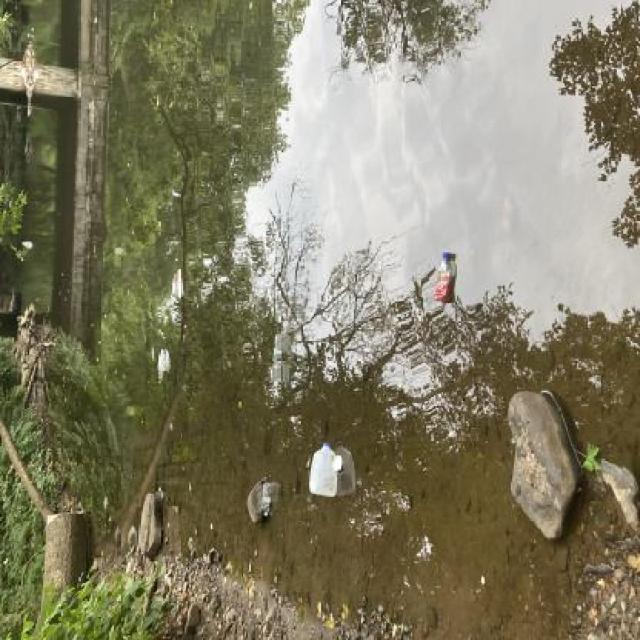Plastic: (302, 438, 344, 502), (426, 243, 460, 306), (260, 480, 274, 518)
